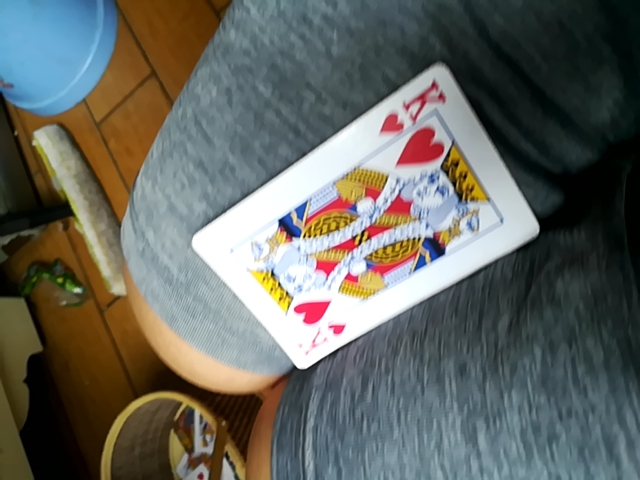hx k: (193, 62, 541, 370)
